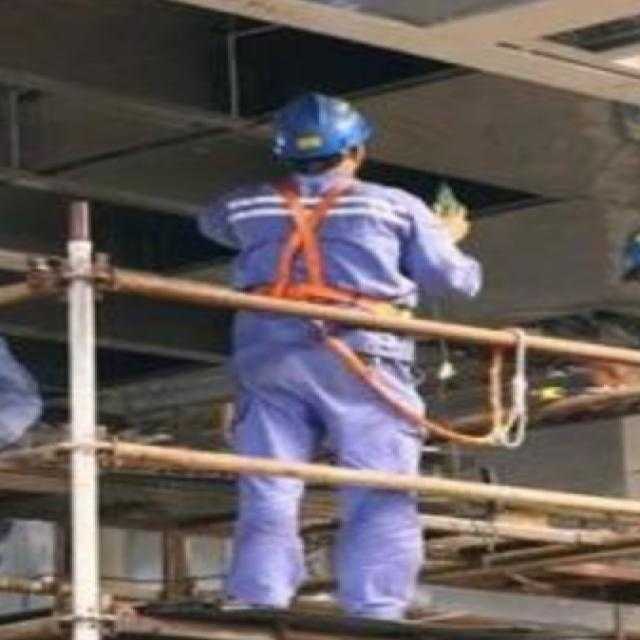Arnes_seguridad: (236, 166, 401, 315)
